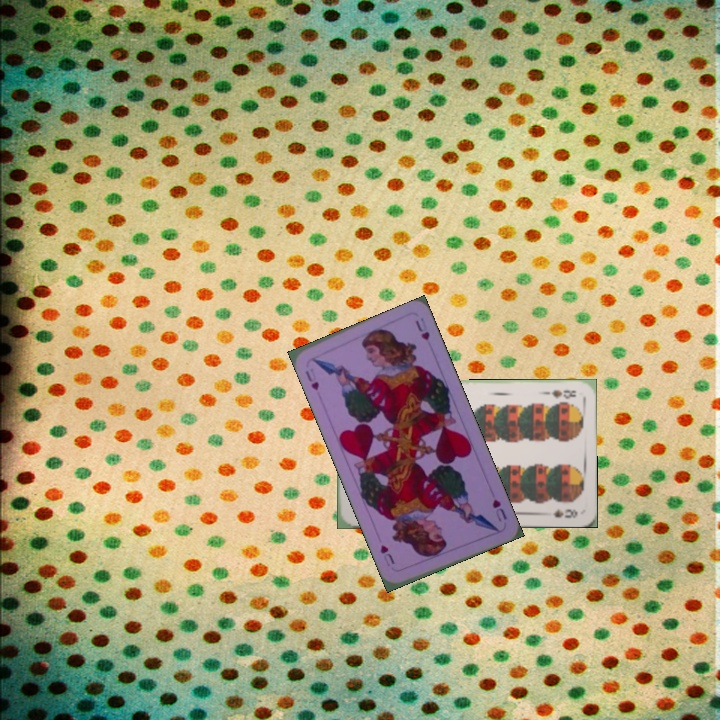HU: (488, 495, 510, 524), (301, 364, 322, 393)
S8: (540, 386, 579, 401)
